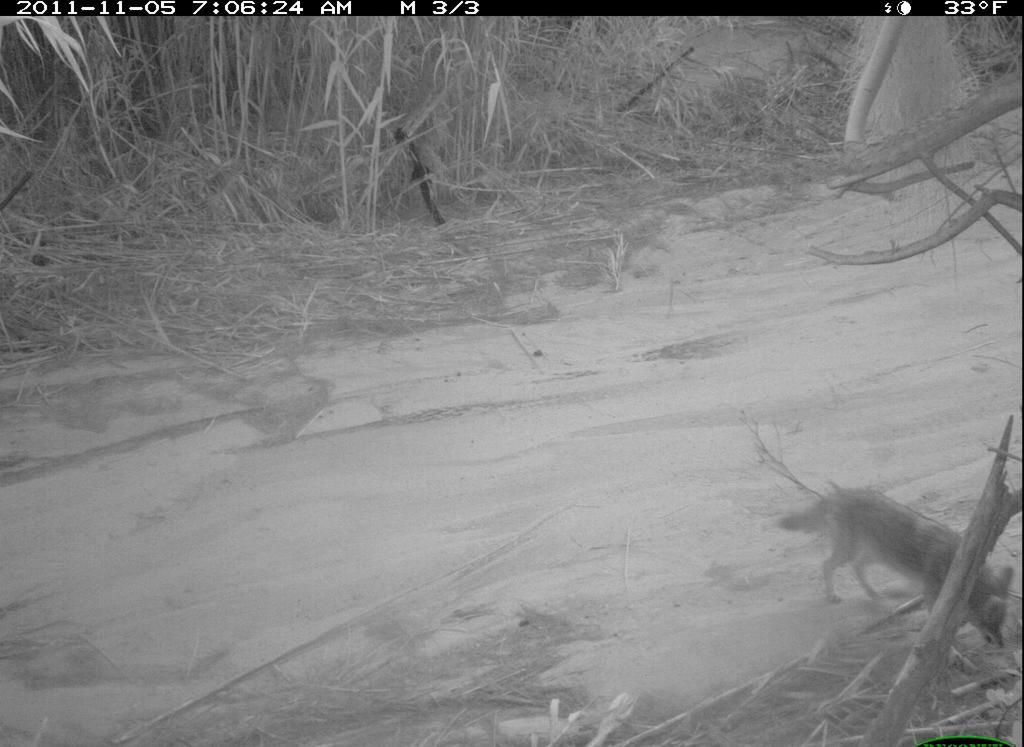coyote: (781, 479, 1021, 662)
